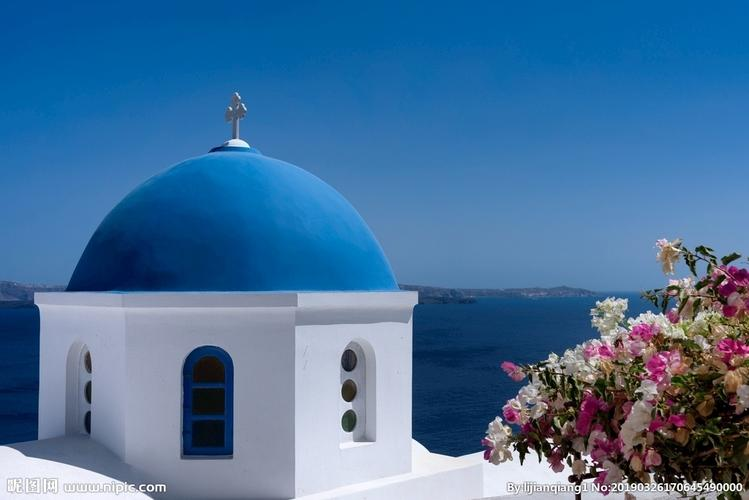mountain: (66, 113, 413, 299)
sky_cloud: (233, 60, 722, 264)
